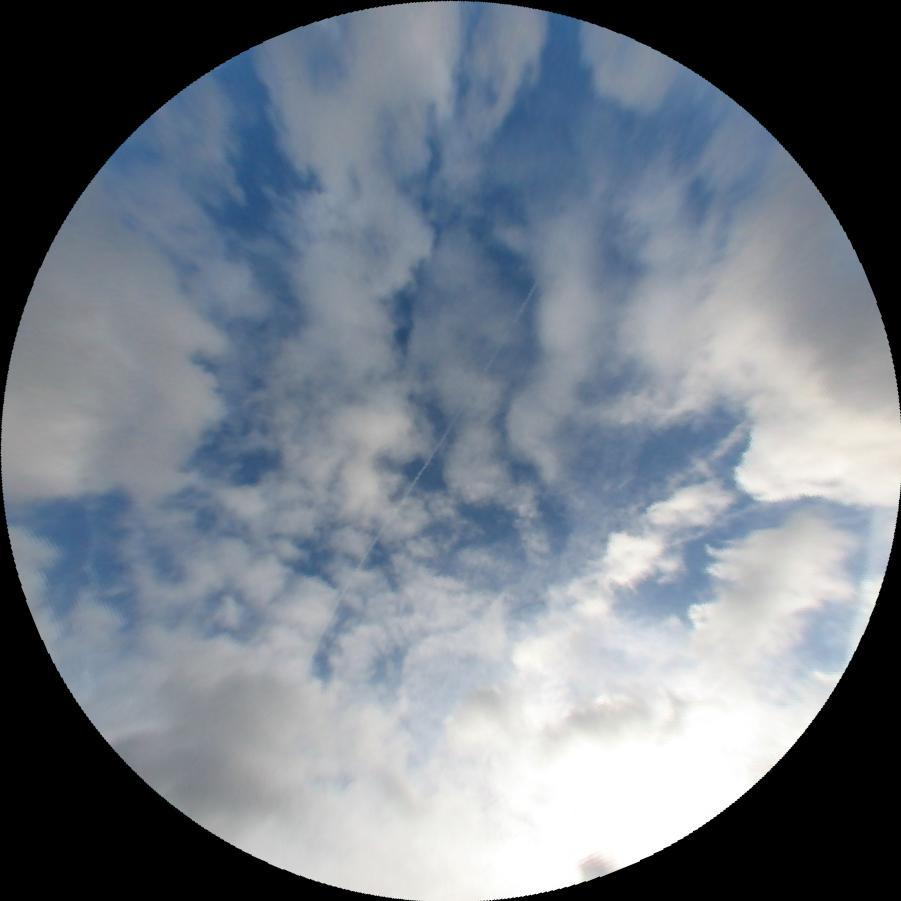contrail young: (315, 280, 538, 635)
